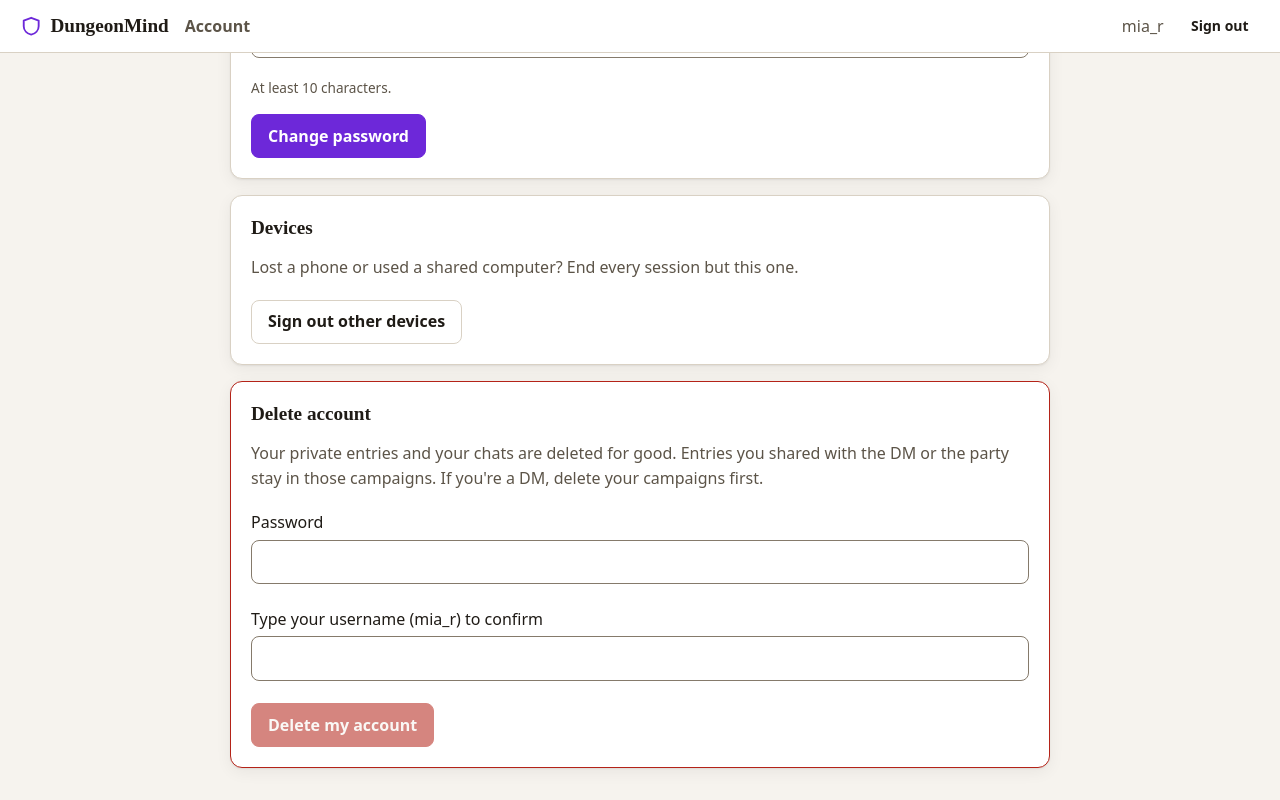
account page › AU4: a DM who still has campaigns sees the reason
(page scrolled)
Type "my password 12" into the password field labelled "Password". click: (640, 562)
box: [251,540,1029,584]
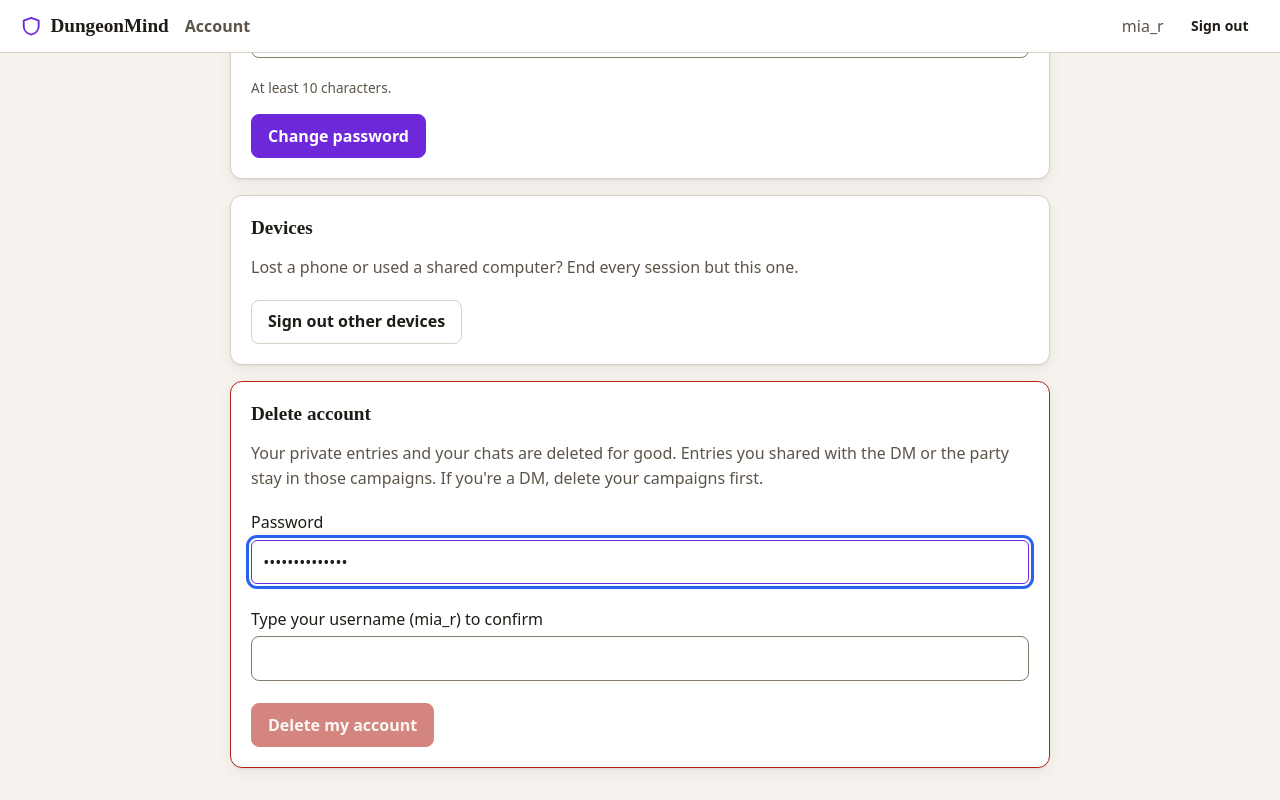
Type "mia_r" into the field labelled "Type your username (mia_r) to confirm". click: (640, 658)
box: [251,636,1029,681]
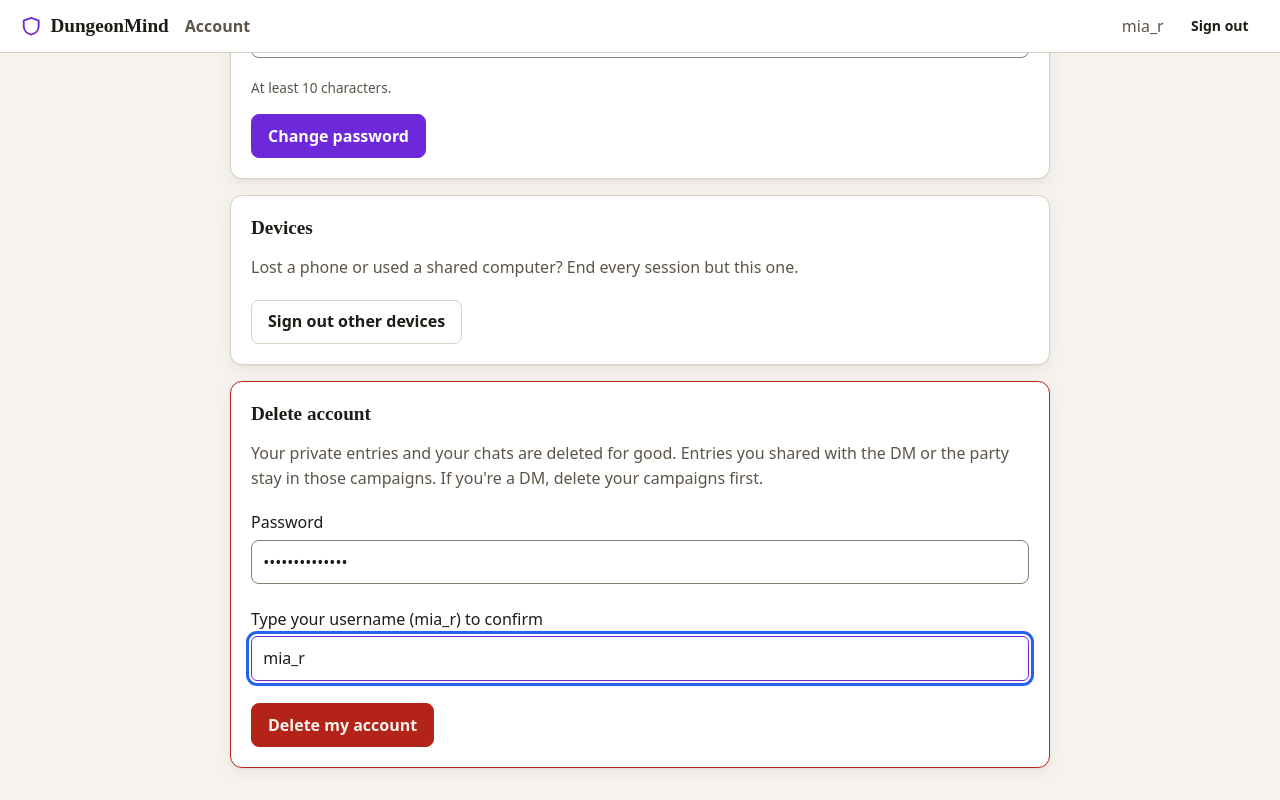
Click the button "Delete my account". click: (343, 725)
box: [251,703,434,747]
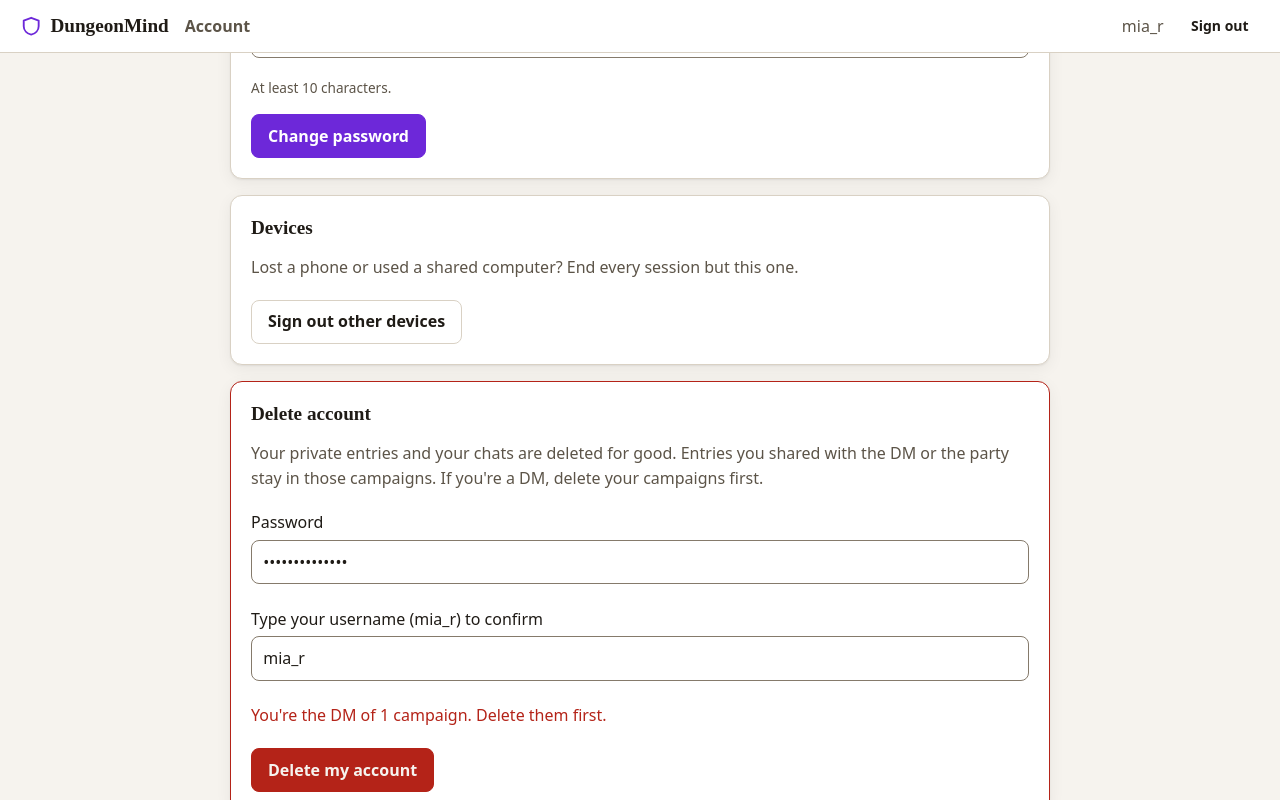
Now the message shows "DM of 1 campaign", box [251,704,607,726]
